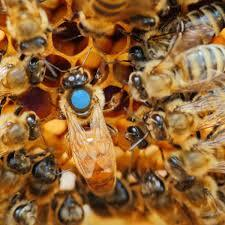Queen-Bee: (52, 59, 132, 199)
worker-bee: (126, 46, 225, 101), (142, 102, 225, 148)
